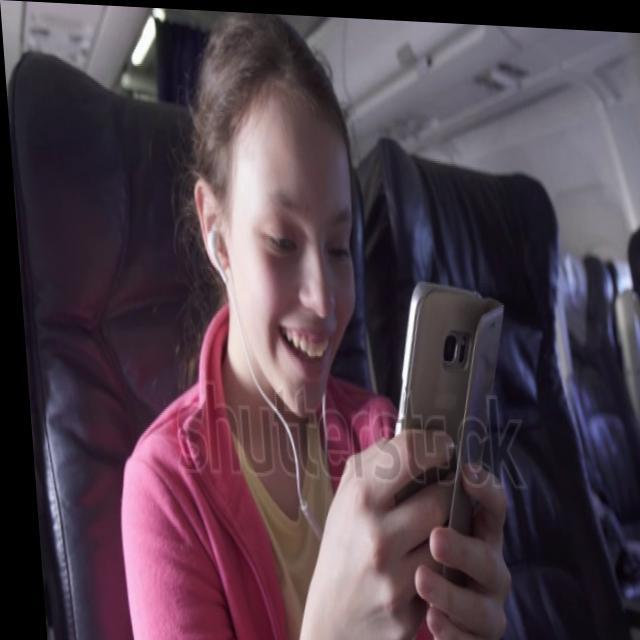PhoneCall: (370, 274, 518, 614)
